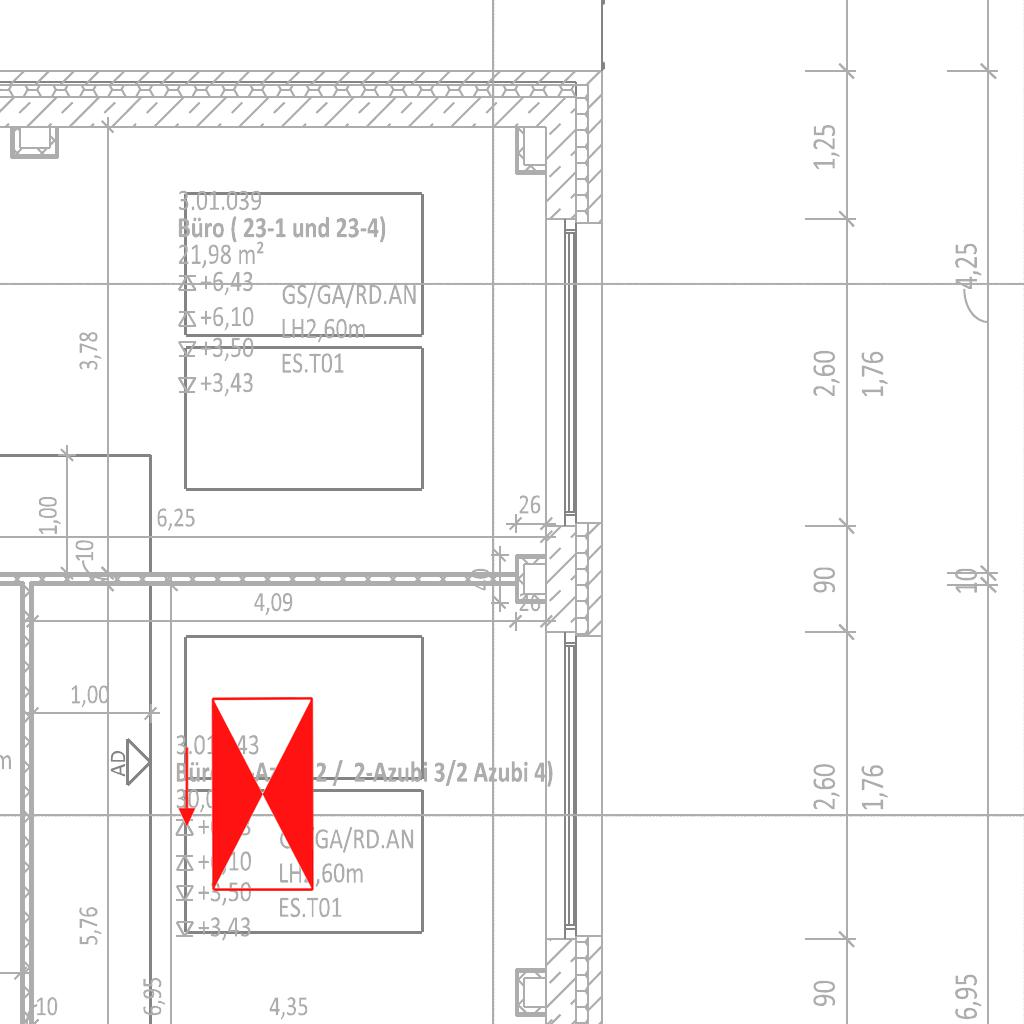Fluchtwegpiktogramm: (173, 690, 320, 898)
